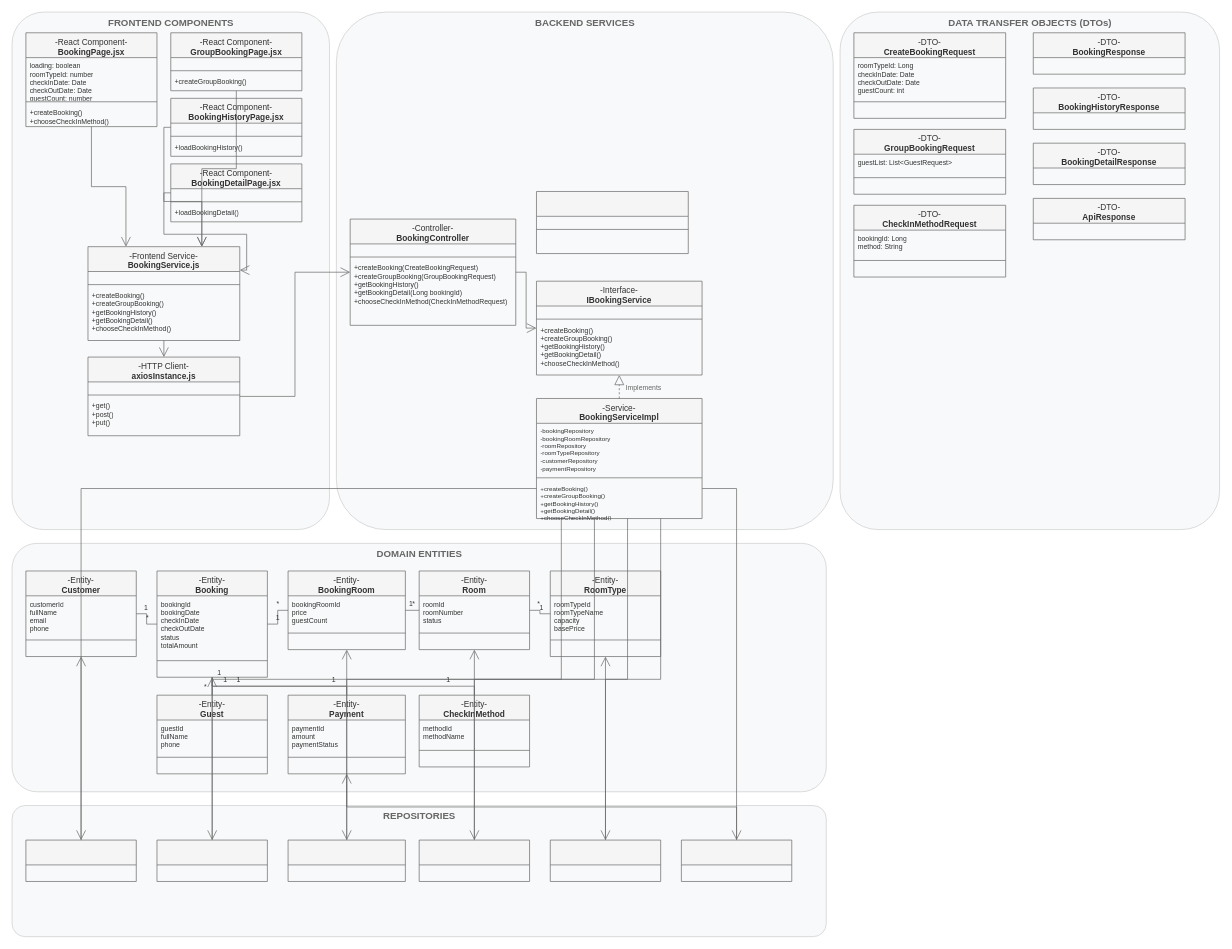
The diagram is 1232 pixels wide and 949 high, and some of its shapes have lost their labels. The shapes that lost their labels are listed below. From the top down, each one's centre as x and y in pixels, then its label:
At (x=612, y=222): "-Configuration- PaypalConfig".
At (x=80, y=860): "-Repository- CustomerRepository".
At (x=211, y=860): "-Repository- BookingRepository".
At (x=346, y=860): "-Repository- BookingRoomRepository".
At (x=474, y=860): "-Repository- RoomRepository".
At (x=605, y=860): "-Repository- RoomTypeRepository".
At (x=736, y=860): "-Repository- PaymentRepository".
